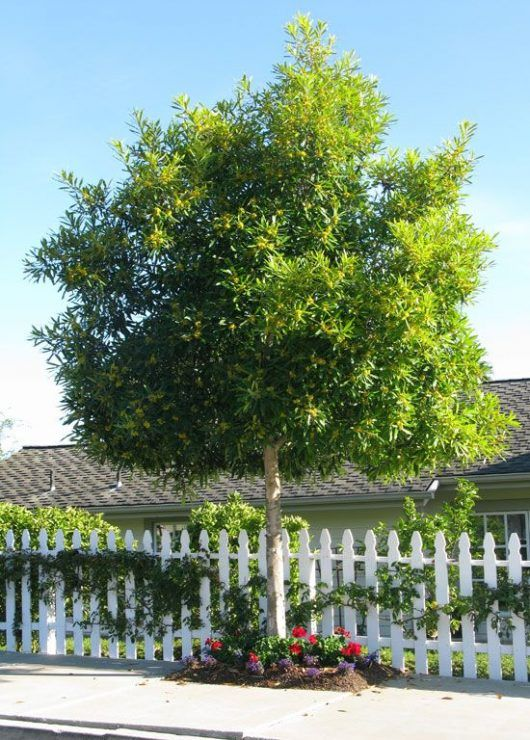tree: (20, 6, 522, 666)
